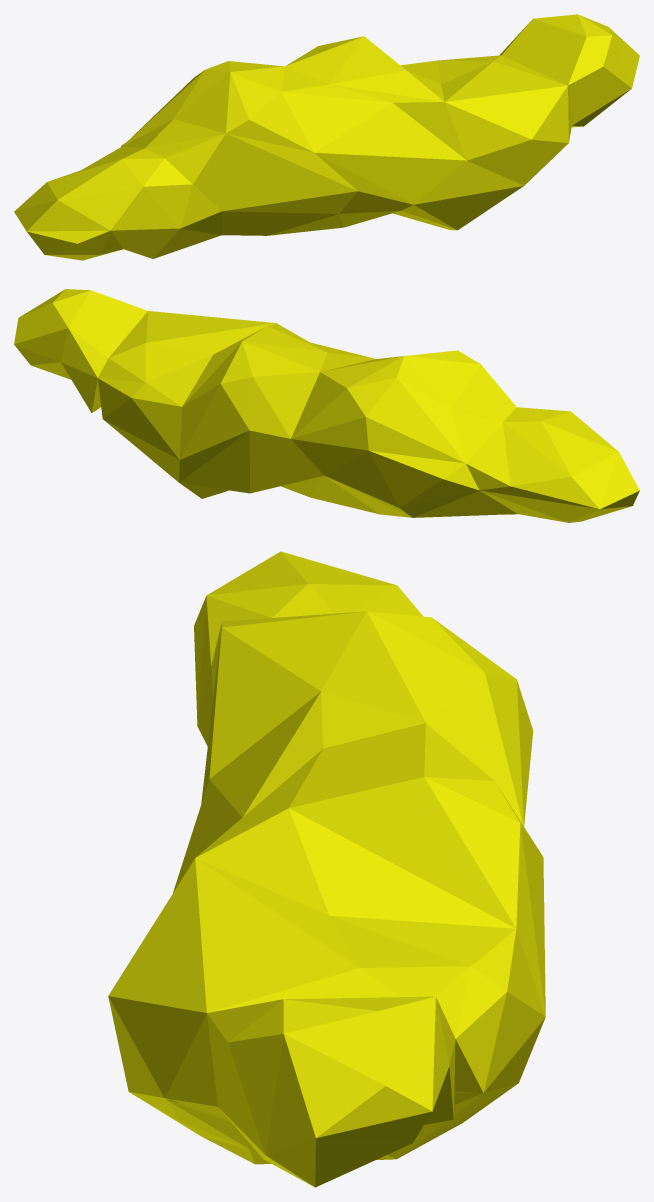
Rendered from SM_Generic_Cloud_04-optimized.glb.
3 views of the same model, one above another, from view 1: azimuth 30°, elevation 25°; view 2: azimuth 150°, elevation 25°; view 3: azimuth 270°, elevation 25° (orthographic). The views are drawn at different scales.
Parts seen in each view (by area): view 1: SM_Generic_Cloud_04; view 2: SM_Generic_Cloud_04; view 3: SM_Generic_Cloud_04.
Boxes of the visible parts, x1,y1,x2,y2 form: SM_Generic_Cloud_04: (14,14,639,260); SM_Generic_Cloud_04: (14,289,639,522); SM_Generic_Cloud_04: (108,551,545,1187).
Bounding box in the file's own units: 5.04 × 1.44 × 1.55.
1 material, 1 textured.
